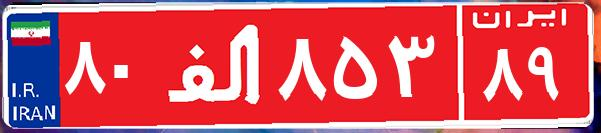0: (110, 28, 158, 105)
3: (385, 28, 445, 110)
5: (330, 28, 385, 110)
8: (273, 28, 330, 110), (57, 26, 110, 107), (475, 38, 525, 113)
9: (525, 38, 570, 115)
الف: (158, 15, 273, 115)
